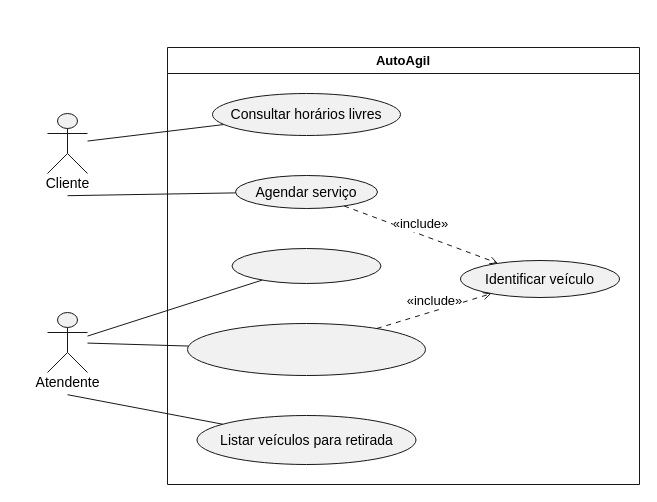
Some shapes in this 657 by 502 pixel diagram are drawn without their labels. The centre of each missing label's shape, as x and y in pixels:
Atualizar status do atendimento: point 306,349
Cadastrar serviço: point 306,266
